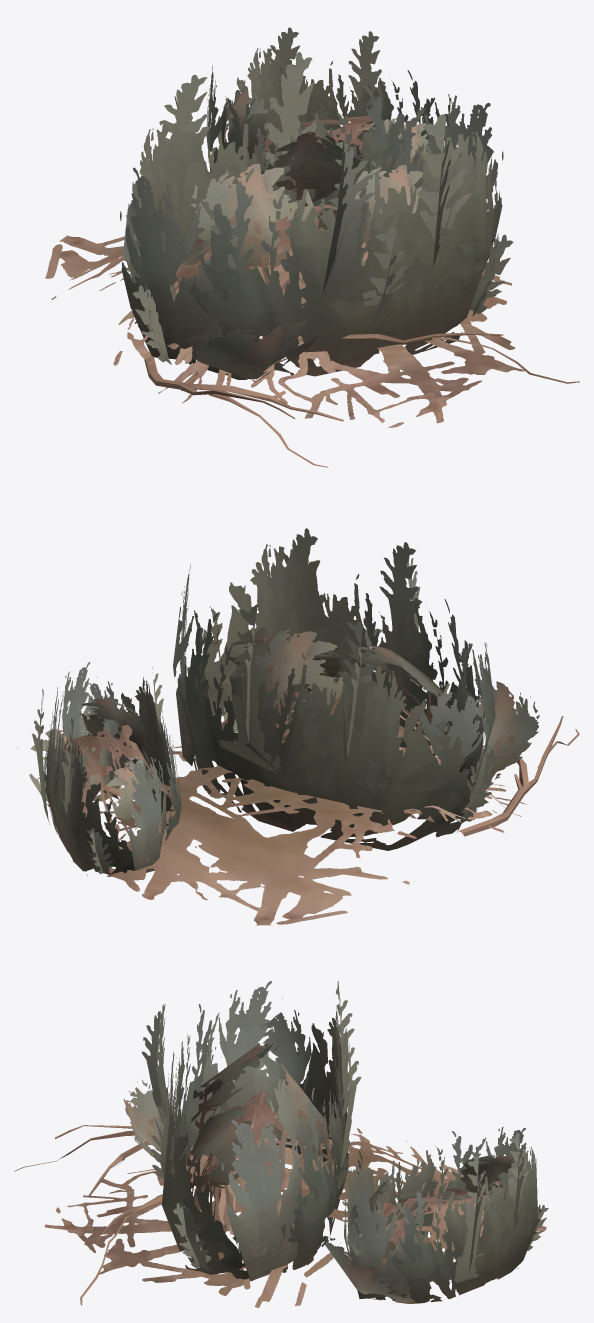
3 renders of one model, top to bottom at view 1: azimuth 30°, elevation 25°; view 2: azimuth 150°, elevation 25°; view 3: azimuth 270°, elevation 25°, orthographic. The views are drawn at different scales.
Visible parts, largest first — view 1: body0_model0_lod0_mesh0; view 2: body0_model0_lod0_mesh0; view 3: body0_model0_lod0_mesh0.
Boxes of the visible parts, x1=… form: body0_model0_lod0_mesh0: x1=45, y1=27, x2=579, y2=467; body0_model0_lod0_mesh0: x1=17, y1=528, x2=579, y2=925; body0_model0_lod0_mesh0: x1=14, y1=981, x2=548, y2=1307.
Bounding box in the file's own units: 106 × 57.52 × 125.
1 material, 1 textured.
